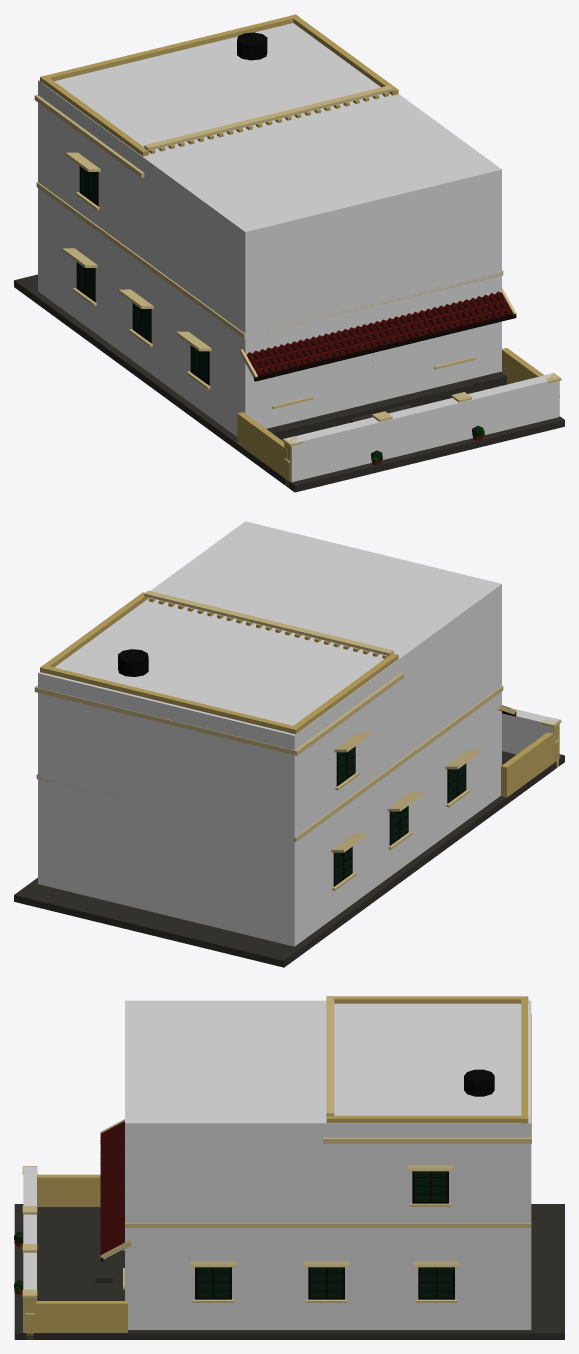
File: CHN_009_trad_terrace.glb
3 renders of one model, top to bottom at view 1: azimuth 30°, elevation 25°; view 2: azimuth 150°, elevation 25°; view 3: azimuth 270°, elevation 25°, orthographic. The views are drawn at different scales.
Visible parts, largest first — view 1: COL_Main, LOD0, COL_Compound; view 2: COL_Main, LOD0, COL_Compound; view 3: COL_Main, LOD0, COL_Compound.
Boxes of the visible parts, <box> form: COL_Main: <box>38,23,501,436</box>; LOD0: <box>14,14,564,492</box>; COL_Compound: <box>285,373,559,482</box>; COL_Main: <box>38,521,501,946</box>; LOD0: <box>14,590,564,967</box>; COL_Compound: <box>502,707,558,754</box>; COL_Main: <box>125,1000,531,1329</box>; LOD0: <box>14,996,564,1339</box>; COL_Compound: <box>23,1167,36,1332</box>.
Size of what is drawn, in the model's own units: 10.45 by 8.23 by 18.03.
